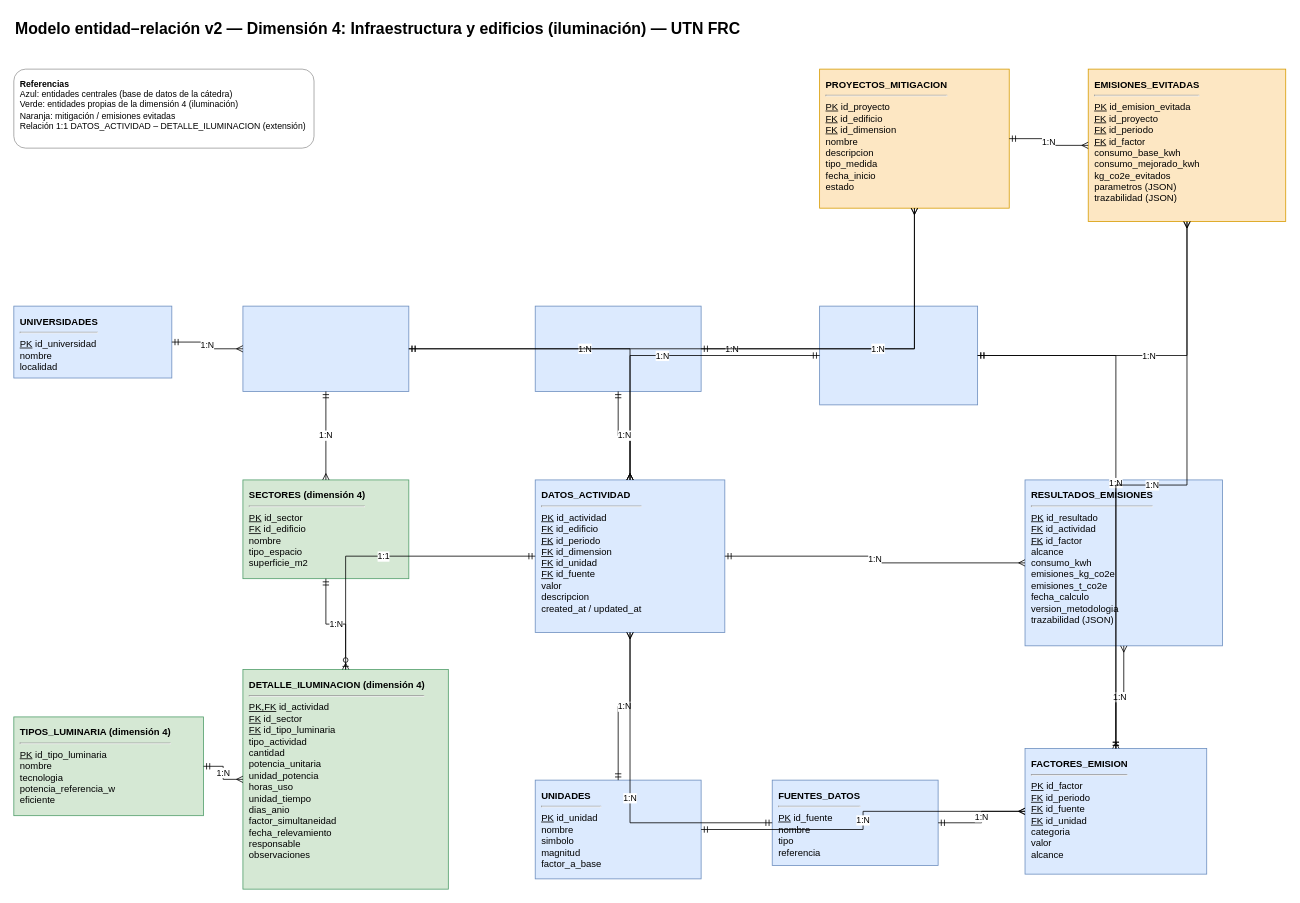
The diagram is 1300 pixels wide and 903 high, and some of its shapes have lost their labels. The centre of each missing label's shape, as x and y in pixels:
"DIMENSIONES PK id_dimension codigo nombre descripcion" goes at point 617,348.
"EDIFICIOS PK id_edificio FK id_universidad nombre direccion" goes at point 325,348.
"PERIODOS PK id_periodo anio fecha_inicio fecha_fin estado" goes at point 898,355.
